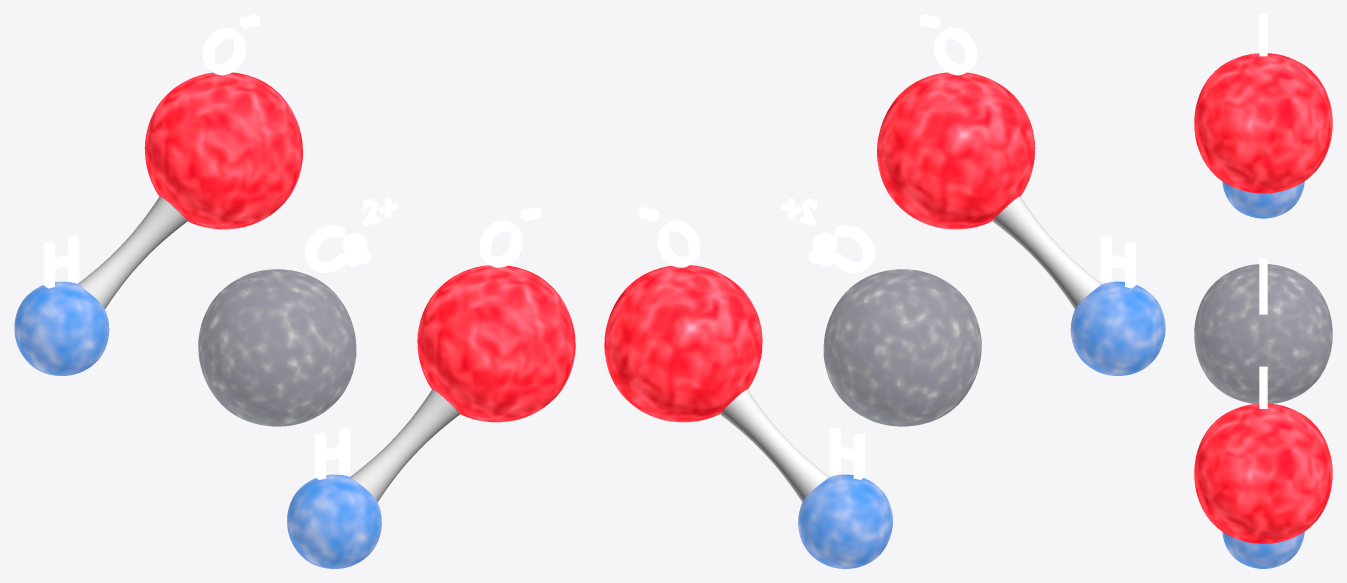
The model's file is CaOH2.glb.
3 views of the same model, side by side, from view 1: azimuth 30°, elevation 25°; view 2: azimuth 150°, elevation 25°; view 3: azimuth 270°, elevation 25° (orthographic). The views are drawn at different scales.
Parts seen in each view (by area): view 1: Text.003; view 2: Text.003; view 3: Text.003.
Boxes of the visible parts, <box> form: Text.003: <box>14,14,575,568</box>; Text.003: <box>604,14,1165,568</box>; Text.003: <box>1194,14,1332,568</box>.
Bounding box in the file's own units: 6.11 × 6.11 × 1.52.
Materials: 5 (3 with a texture image).
